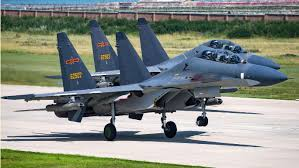maybay_muctieu: (19, 49, 288, 144), (74, 21, 283, 86)
